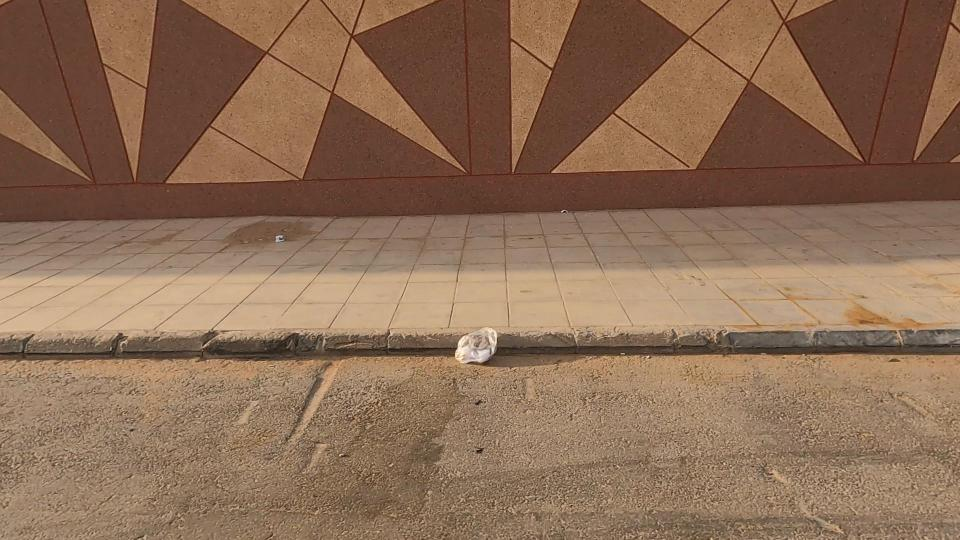GARBAGE: (367, 281, 557, 406), (245, 215, 316, 262)
